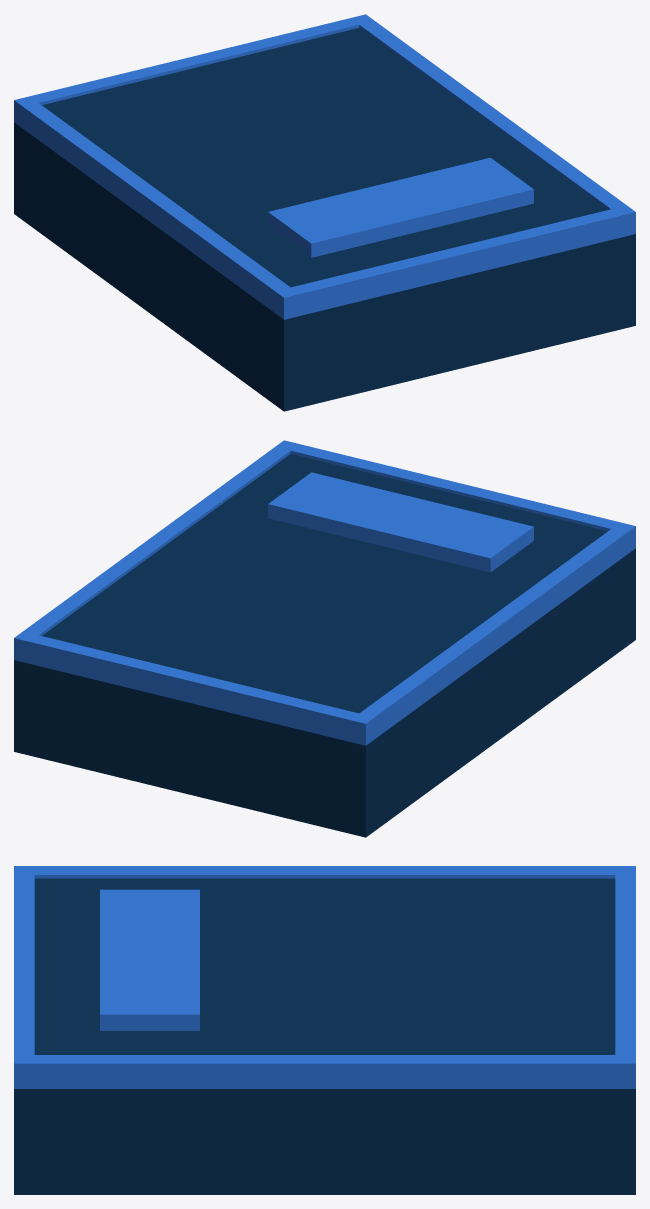
File: medbayBed.fbx
The picture shows the model from 3 angles, top to bottom: view 1: azimuth 30°, elevation 25°; view 2: azimuth 150°, elevation 25°; view 3: azimuth 270°, elevation 25°; orthographic projection. The views are drawn at different scales.
Visible parts, largest first — view 1: medbayBed; view 2: medbayBed; view 3: medbayBed.
Part boxes in pixels (left/top/right/bottom): medbayBed: left=14, top=14, right=635, bottom=411; medbayBed: left=14, top=440, right=635, bottom=837; medbayBed: left=14, top=866, right=635, bottom=1194.
Size of the model in its own units: 200 by 67.84 by 266.
